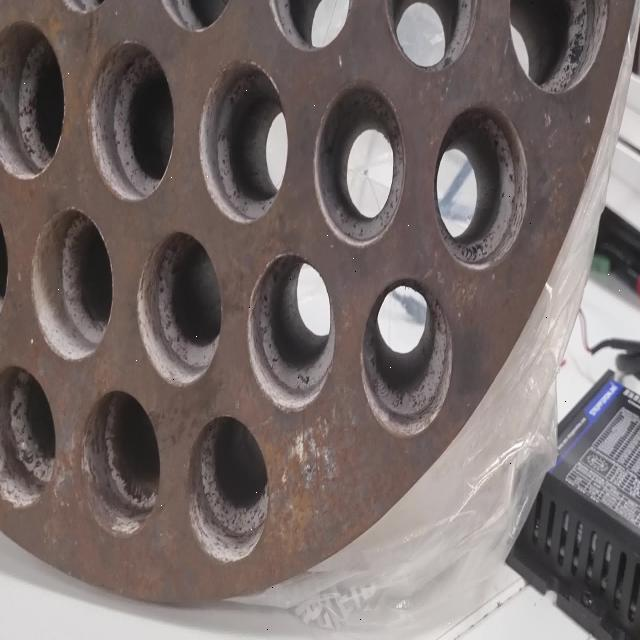Hole: (434, 104, 528, 270), (314, 80, 406, 248), (360, 276, 454, 438), (199, 61, 289, 225), (247, 251, 335, 412), (88, 40, 174, 202), (136, 231, 222, 387), (30, 208, 113, 362), (187, 414, 269, 566), (81, 388, 160, 538), (0, 18, 66, 180), (506, 0, 608, 94), (1, 365, 57, 508), (384, 1, 478, 72), (264, 0, 356, 52), (151, 0, 238, 33)
